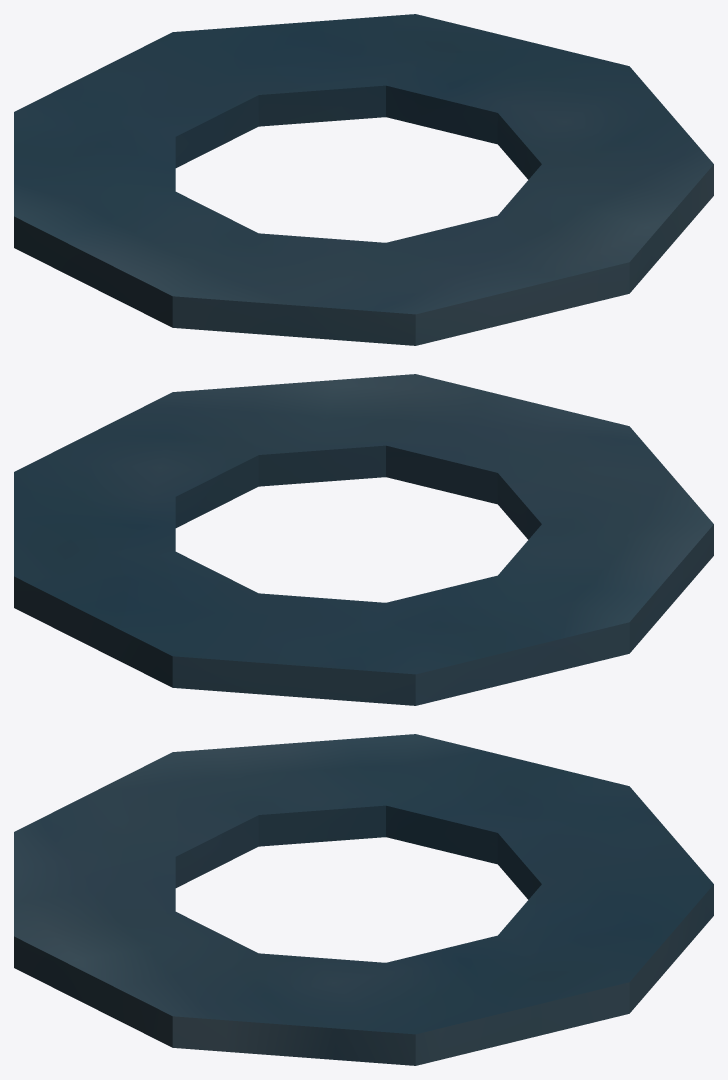
The model's file is floor.fbx.
3 views of the same model, one above another, from view 1: azimuth 30°, elevation 25°; view 2: azimuth 150°, elevation 25°; view 3: azimuth 270°, elevation 25° (orthographic).
Visible parts, largest first — view 1: floor; view 2: floor; view 3: floor.
Boxes of the visible parts, bbox=[...] form: floor: bbox=[14, 14, 713, 345]; floor: bbox=[14, 374, 713, 705]; floor: bbox=[14, 734, 713, 1065].
Bounding box in the file's own units: 309 × 15.12 × 304.
1 material, 1 textured.
